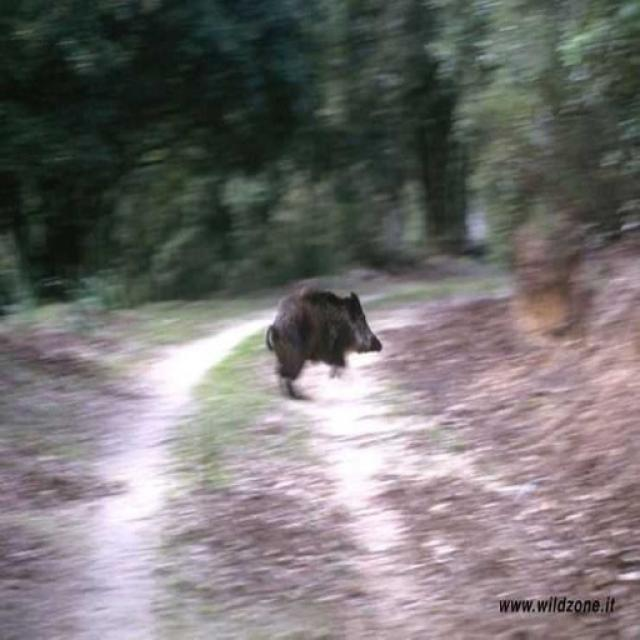pig: (243, 245, 429, 420)
